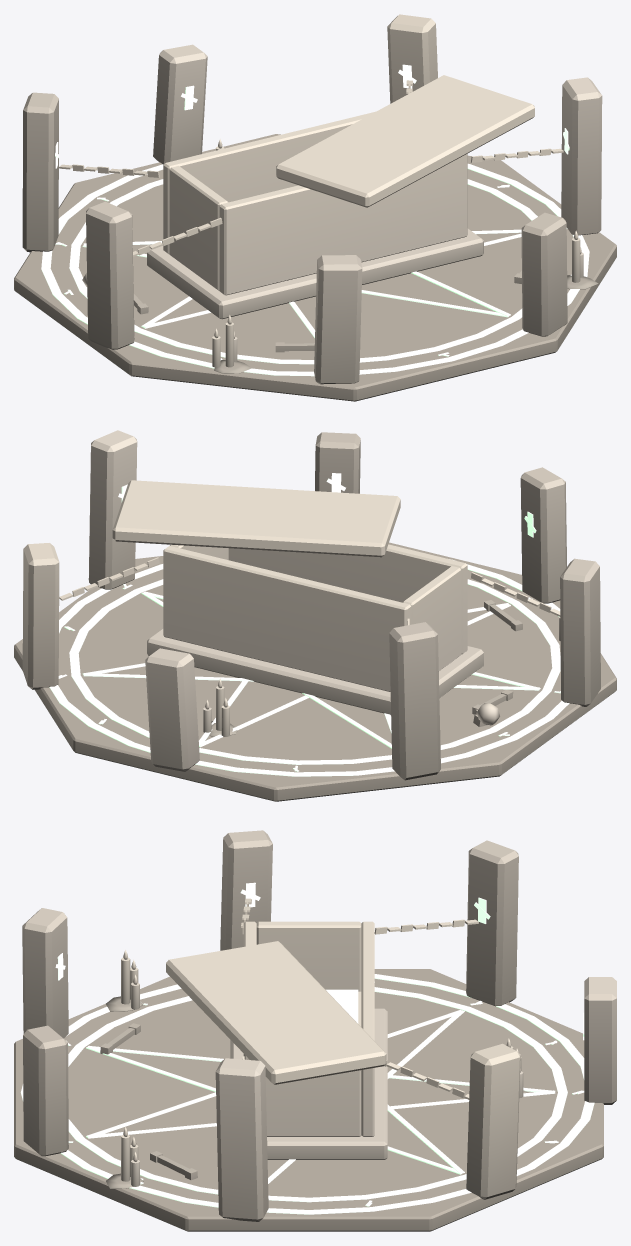
File: SM_VKI_Prop_POI_NecroCircle.fbx
3 renders of one model, top to bottom at view 1: azimuth 30°, elevation 25°; view 2: azimuth 150°, elevation 25°; view 3: azimuth 270°, elevation 25°, orthographic. The views are drawn at different scales.
Parts seen in each view (by area): view 1: SM_VKI_Prop_POI_NecroCircle.001; view 2: SM_VKI_Prop_POI_NecroCircle.001; view 3: SM_VKI_Prop_POI_NecroCircle.001.
Part boxes in pixels (x1,y1,x2,y2): SM_VKI_Prop_POI_NecroCircle.001: [14, 14, 616, 401]; SM_VKI_Prop_POI_NecroCircle.001: [14, 430, 616, 801]; SM_VKI_Prop_POI_NecroCircle.001: [14, 830, 616, 1231].
Bounding box in the file's own units: 3.72 × 1.1 × 3.68.
